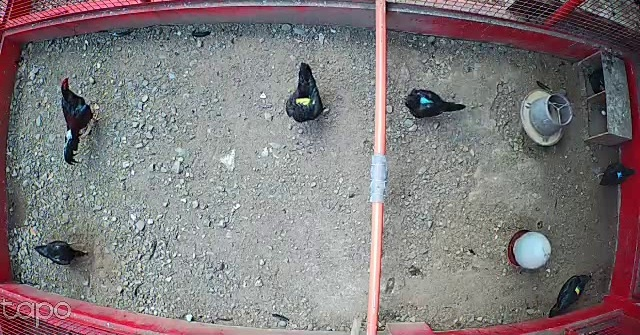Chicken: (403, 85, 475, 123), (287, 63, 329, 122), (547, 272, 599, 317), (34, 237, 87, 266), (594, 161, 636, 188)
Rooster: (55, 72, 106, 169)
Saddle_Color_Blue: (616, 172, 623, 179)
Saddle_Color_Yellow: (296, 96, 311, 104)
Saddle_Color_YellowGreen: (576, 285, 583, 294)
